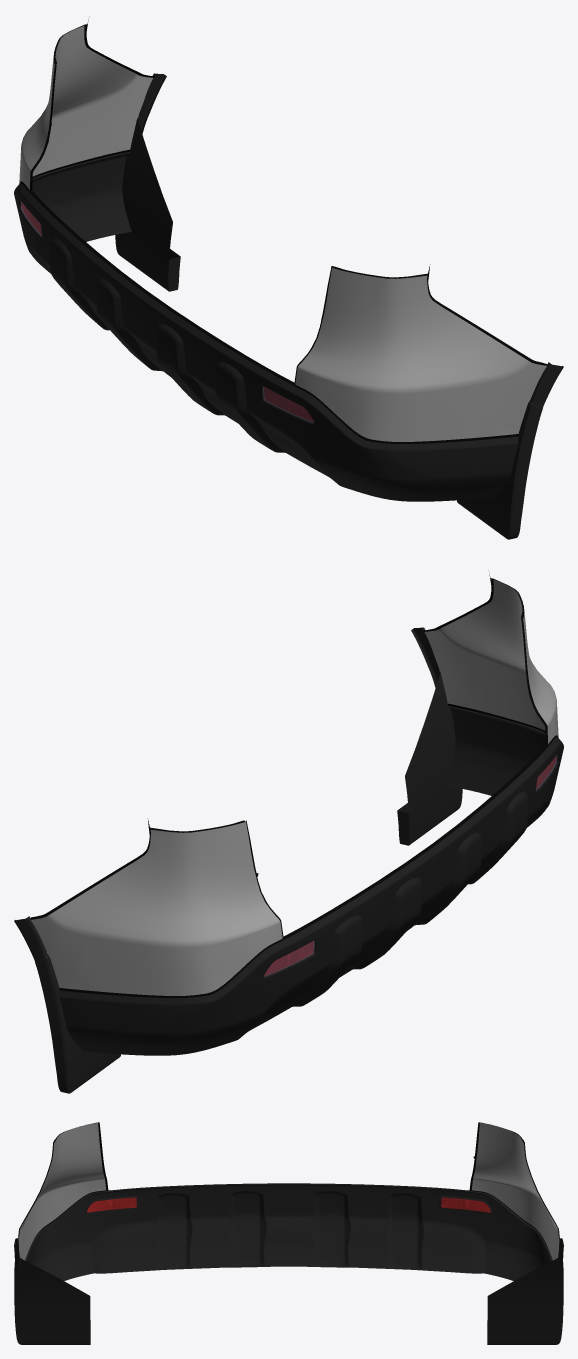
3 views of the same model, one above another, from view 1: azimuth 30°, elevation 25°; view 2: azimuth 150°, elevation 25°; view 3: azimuth 270°, elevation 25° (orthographic). The views are drawn at different scales.
Visible parts, largest first — view 1: H812_561G_C_1_D_H812_561G_C, H812_561G_C_H812_561G_C_6_DaS, H812_561G_C_H812_561G_C_4_DaS, H812_561G_C_1_D_H812_561G_C_E, H812_561G_C_H812_561G_C_7_D, H812_561G_C_H812_561G_C_2_N; view 2: H812_561G_C_1_D_H812_561G_C, H812_561G_C_H812_561G_C_4_DaS, H812_561G_C_H812_561G_C_6_DaS, H812_561G_C_1_D_H812_561G_C_E, H812_561G_C_H812_561G_C_7_D, H812_561G_C_H812_561G_C_2_N; view 3: H812_561G_C_1_D_H812_561G_C, H812_561G_C_1_D_H812_561G_C_E, H812_561G_C_H812_561G_C_6_DaS, H812_561G_C_H812_561G_C_4_DaS, H812_561G_C_H812_561G_C_7_D, H812_561G_C_H812_561G_C_2_N.
Boxes of the visible parts, x1,y1,x2,y2 form: H812_561G_C_1_D_H812_561G_C: (14,73,563,539); H812_561G_C_H812_561G_C_6_DaS: (295,267,546,441); H812_561G_C_H812_561G_C_4_DaS: (19,26,153,189); H812_561G_C_1_D_H812_561G_C_E: (19,200,313,452); H812_561G_C_H812_561G_C_7_D: (19,16,547,444); H812_561G_C_H812_561G_C_2_N: (21,202,313,422); H812_561G_C_1_D_H812_561G_C: (14,627,563,1093); H812_561G_C_H812_561G_C_4_DaS: (31,821,282,995); H812_561G_C_H812_561G_C_6_DaS: (424,580,558,743); H812_561G_C_1_D_H812_561G_C_E: (264,754,558,1006); H812_561G_C_H812_561G_C_7_D: (30,570,558,998); H812_561G_C_H812_561G_C_2_N: (264,756,556,976); H812_561G_C_1_D_H812_561G_C: (14,1183,563,1344); H812_561G_C_1_D_H812_561G_C_E: (86,1190,491,1269); H812_561G_C_H812_561G_C_6_DaS: (18,1123,105,1263); H812_561G_C_H812_561G_C_4_DaS: (472,1123,559,1263); H812_561G_C_H812_561G_C_7_D: (18,1122,559,1259); H812_561G_C_H812_561G_C_2_N: (87,1197,490,1212).
Size of the model in its own units: 74.16 by 83.6 by 223.
